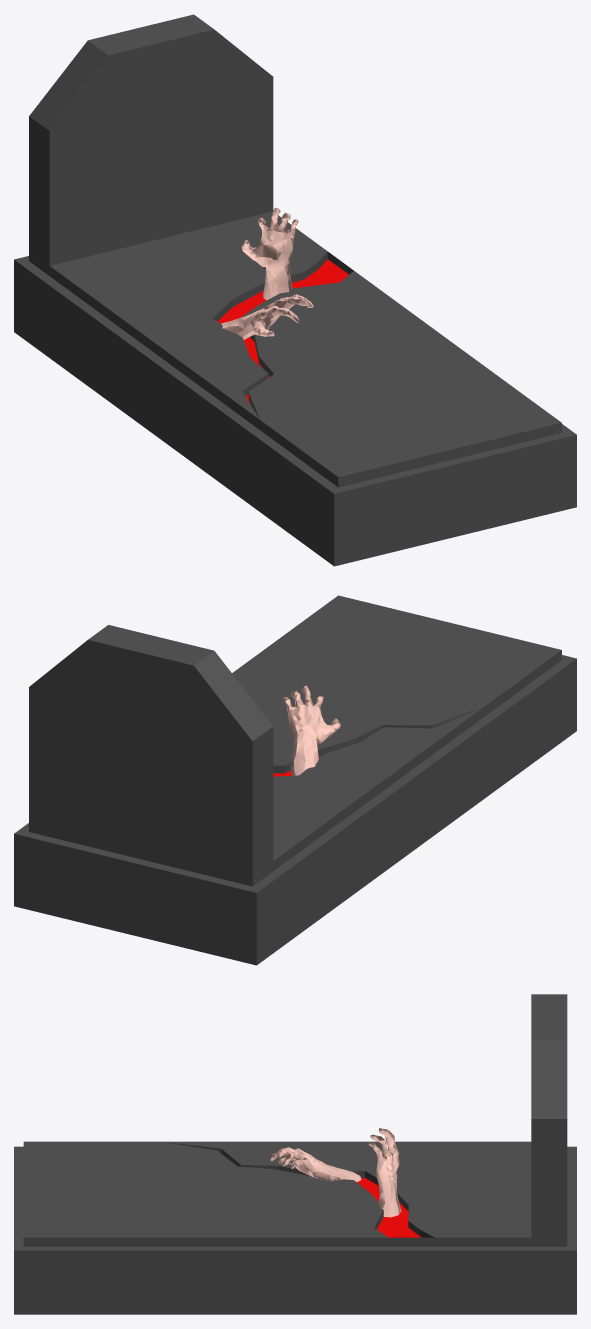
The model's file is 09 Stone_Grave_2.FBX.
The picture shows the model from 3 angles, top to bottom: view 1: azimuth 30°, elevation 25°; view 2: azimuth 150°, elevation 25°; view 3: azimuth 270°, elevation 25°; orthographic projection. The views are drawn at different scales.
Parts seen in each view (by area): view 1: Box059; view 2: Box059; view 3: Box059.
Part boxes in pixels (x1,y1,x2,y2): Box059: (14,14,576,566); Box059: (14,595,576,965); Box059: (14,994,576,1314).
Bounding box in the file's own units: 700 × 769 × 1600.
